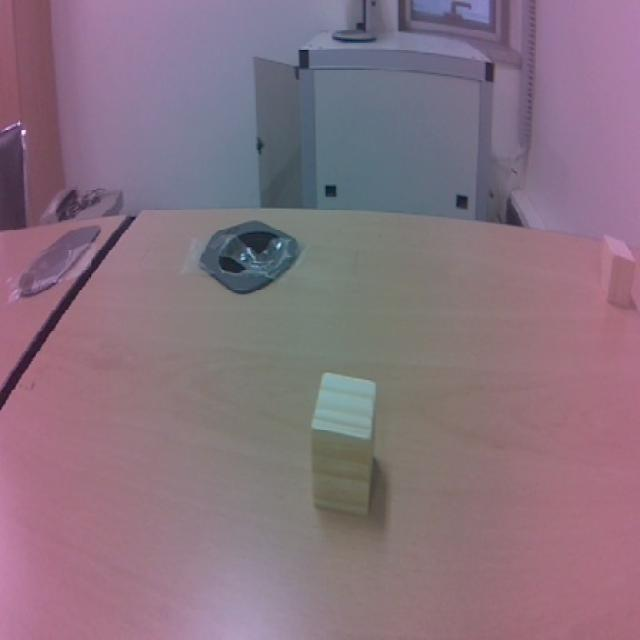obstacle: (294, 357, 405, 530)
